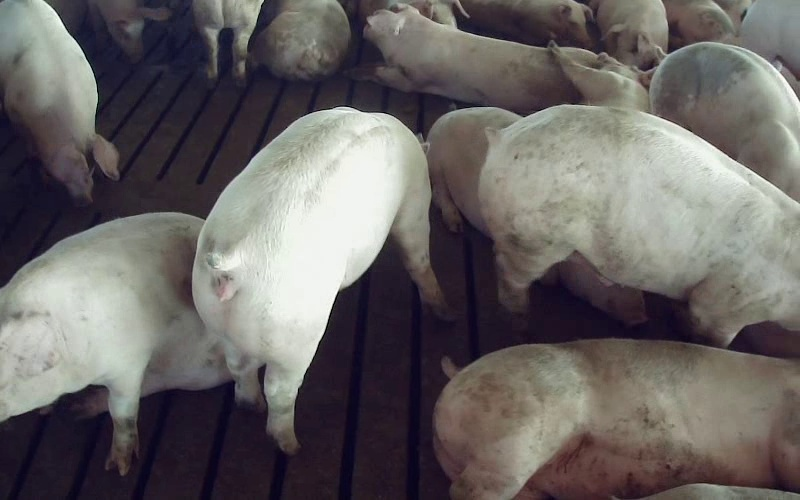pig: (192, 107, 451, 453), (478, 105, 799, 346), (0, 213, 230, 474), (434, 339, 799, 499), (345, 7, 579, 113), (650, 42, 799, 201), (251, 0, 350, 80)
